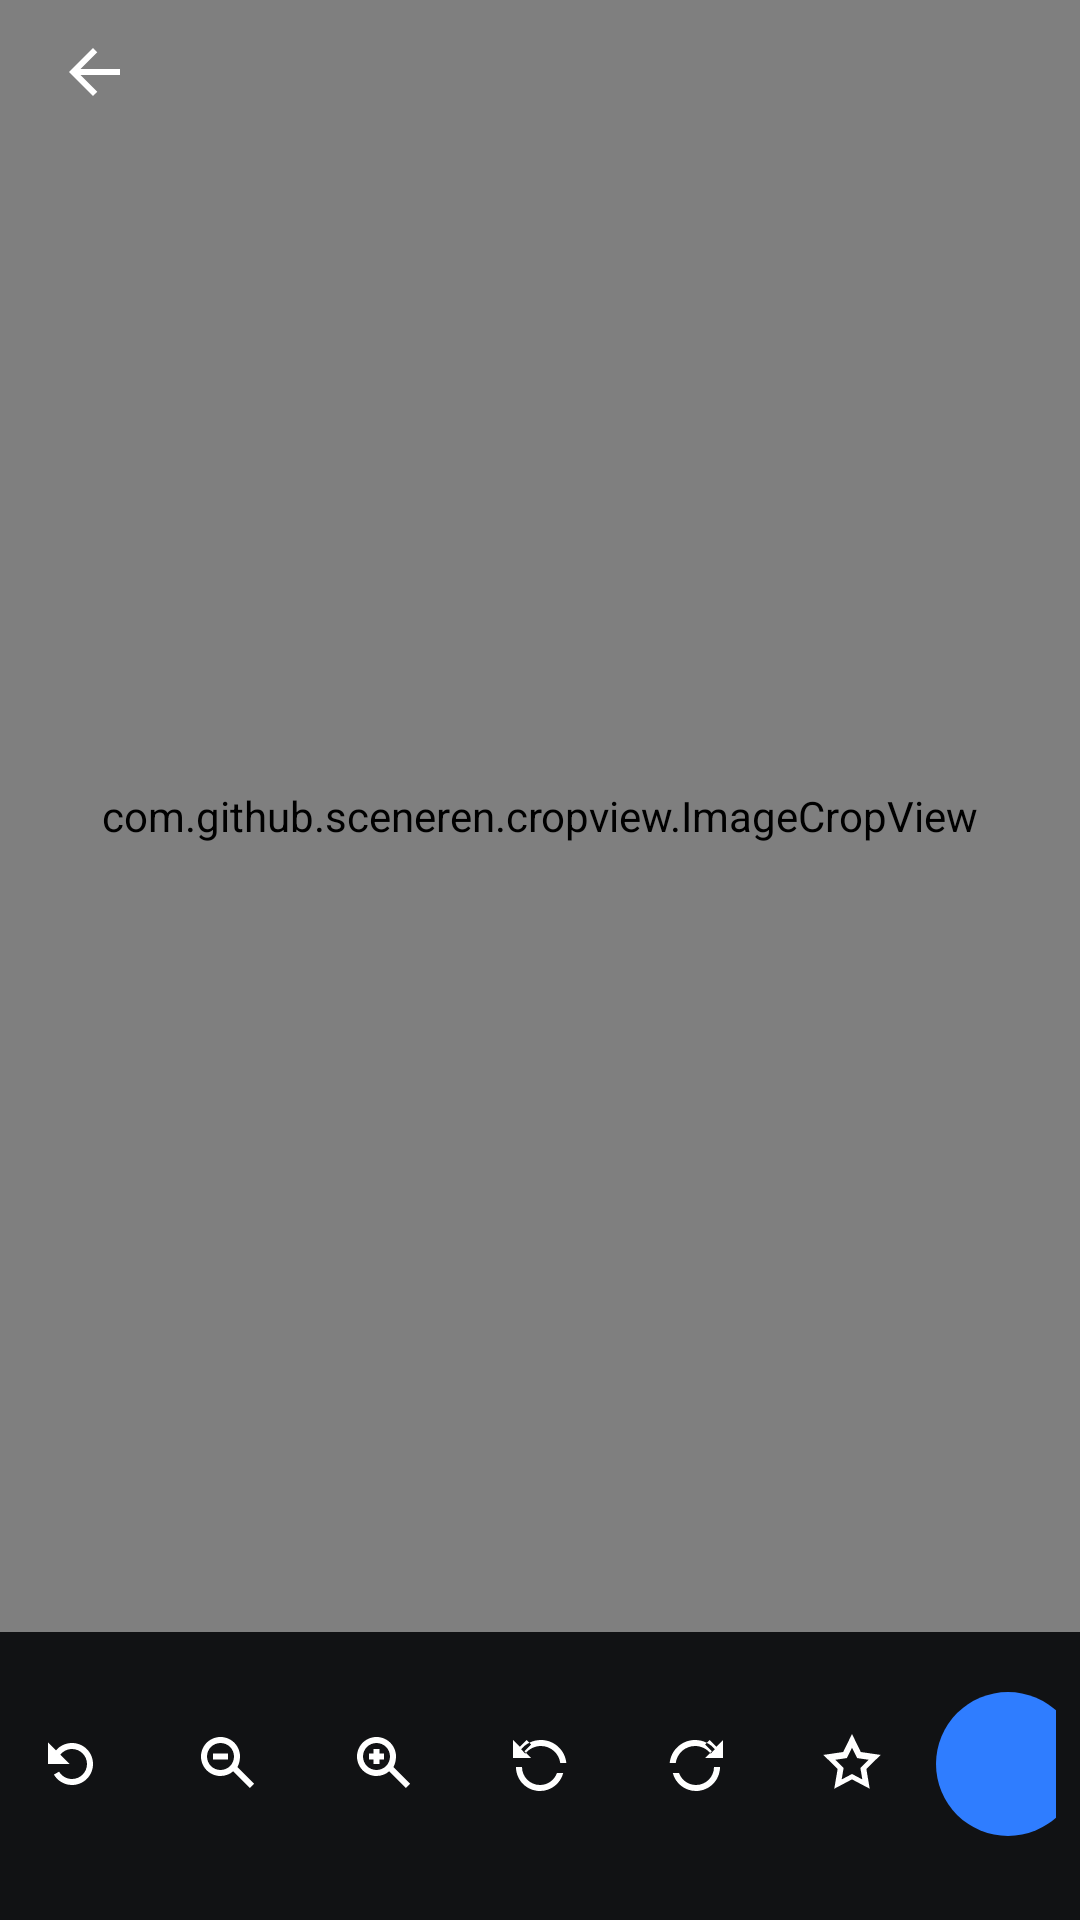

Screen size 1080*1920. Icon name, then its box in pixels as (x1, y1, x2, y2):
向右旋转: (669, 1740, 723, 1791)
向左旋转: (513, 1740, 567, 1791)
放大: (357, 1737, 410, 1788)
缩小: (201, 1737, 254, 1788)
返回: (69, 48, 120, 96)
重置: (48, 1742, 93, 1785)
